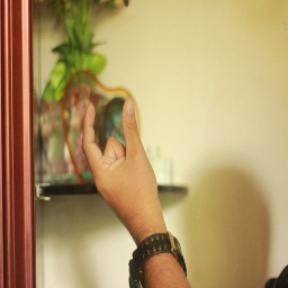U: (69, 92, 175, 223)
